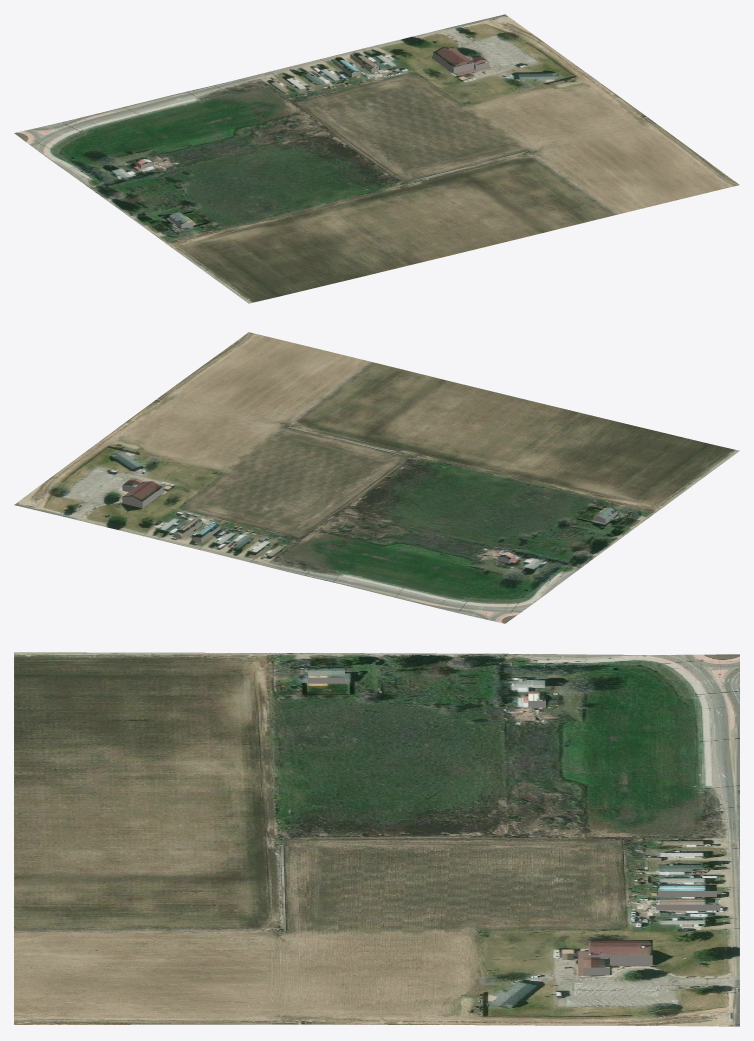
The model's file is caldwell-farm-3d.glb.
3 views of the same model, one above another, from view 1: azimuth 30°, elevation 25°; view 2: azimuth 150°, elevation 25°; view 3: azimuth 270°, elevation 25° (orthographic). The views are drawn at different scales.
Visible parts, largest first — view 1: Measured ground; view 2: Measured ground; view 3: Measured ground, Main barn roof.
Boxes of the visible parts, x1,y1,x2,y2 form: Measured ground: [14, 14, 739, 303]; Measured ground: [14, 332, 739, 623]; Measured ground: [14, 652, 739, 1026]; Main barn roof: [588, 940, 652, 955].
Bounding box in the file's own units: 403 × 8.5 × 333.
Materials: 1 (1 with a texture image).
